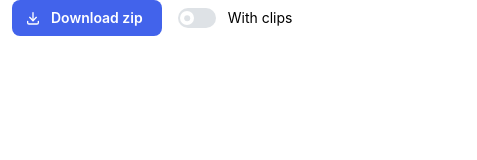
Test case: DownloadButton › reports a failed check instead of navigating
Click the link with test id "admin-download": [87, 18] box [12,0,162,36]
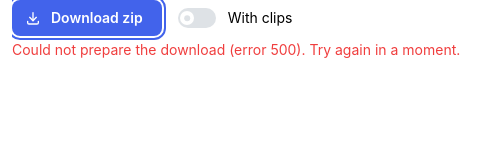
Expected: the text "Could not prepare the download (error 500). Try again in a moment." is shown, [12,41,460,58]
